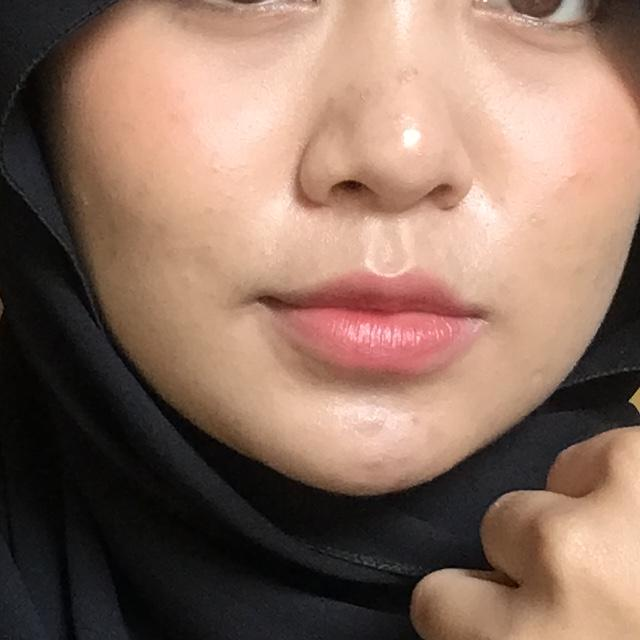telpon: (190, 146, 640, 640)
